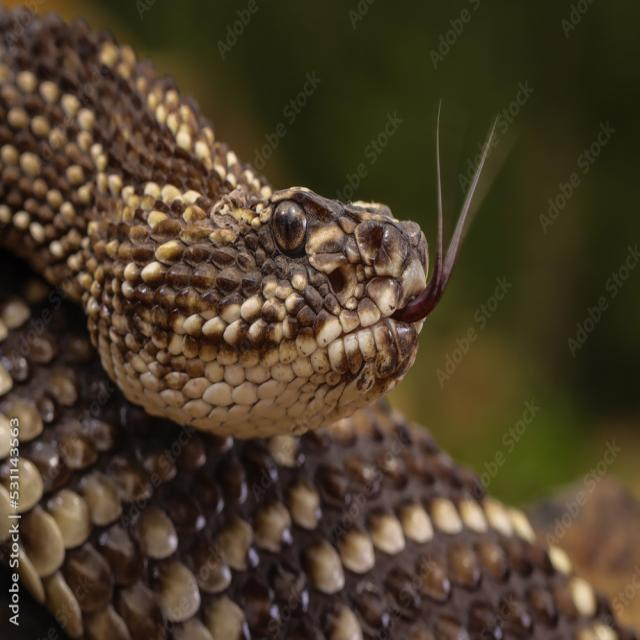Snake: (27, 41, 640, 640)
